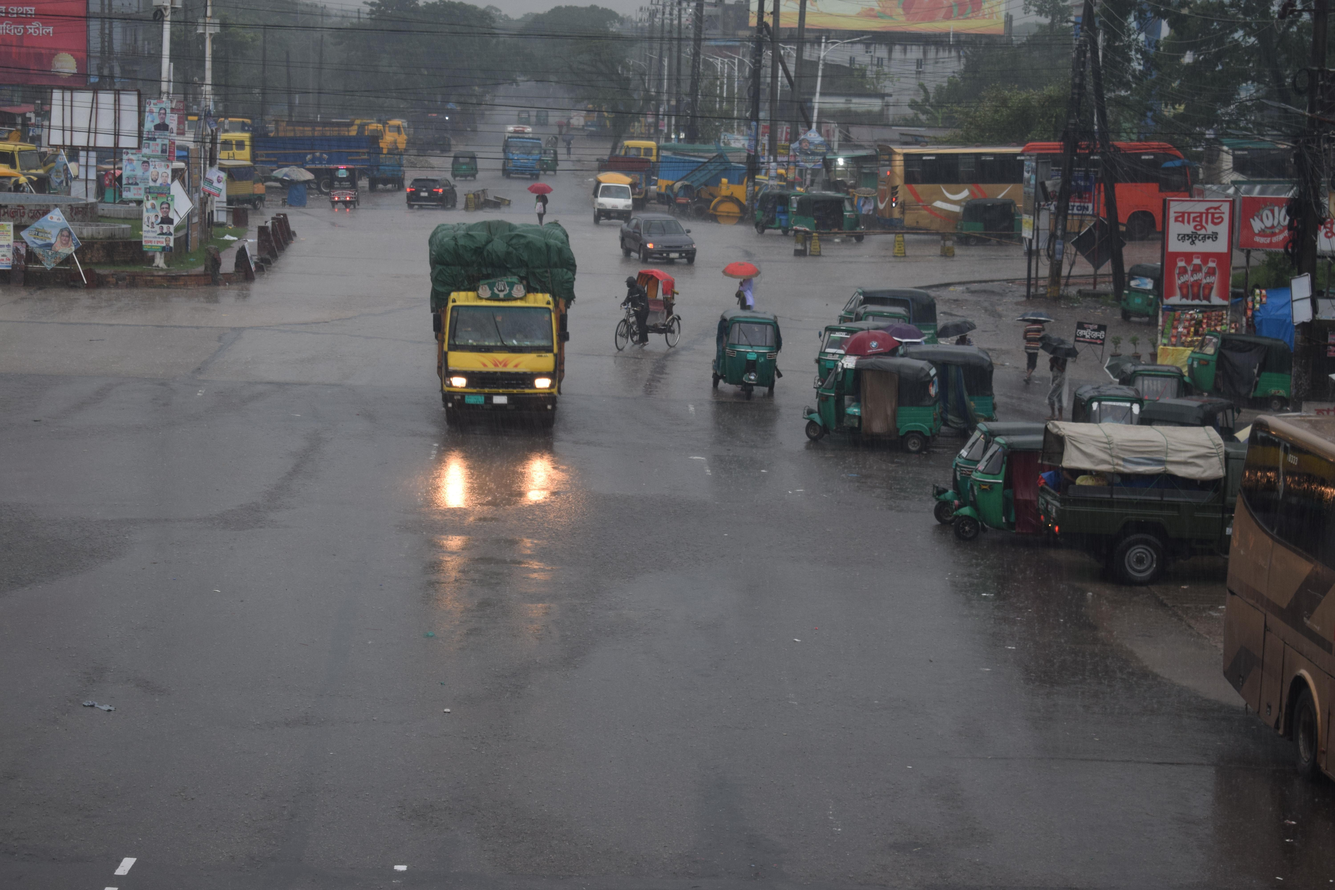Bus: (1189, 371, 1335, 811), (864, 106, 1217, 275)
Car: (599, 202, 720, 274), (385, 168, 470, 225), (578, 164, 649, 225)
Truck: (373, 206, 601, 475), (1023, 391, 1238, 591), (199, 67, 407, 171), (0, 127, 54, 202)
